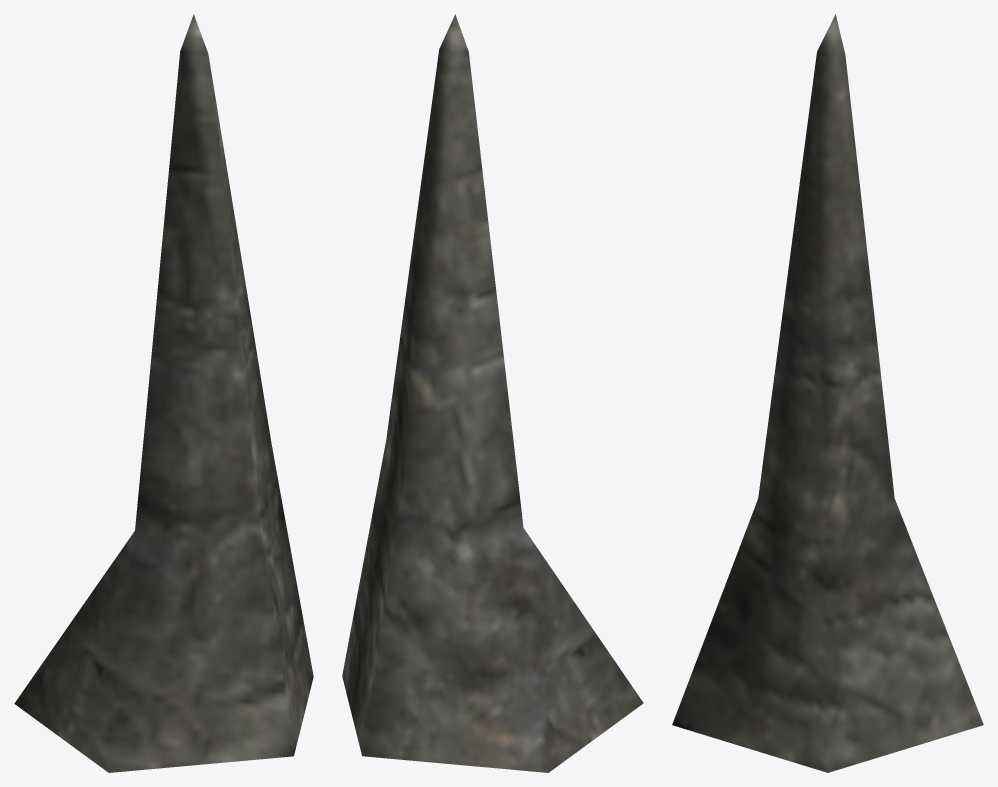
File: Stal6_LOD1.fbx
3 renders of one model, left to right at view 1: azimuth 30°, elevation 25°; view 2: azimuth 150°, elevation 25°; view 3: azimuth 270°, elevation 25°, orthographic.
Parts seen in each view (by area): view 1: pCylinder24; view 2: pCylinder24; view 3: pCylinder24.
Boxes of the visible parts, x1=… form: pCylinder24: x1=14, y1=14, x2=313, y2=772; pCylinder24: x1=342, y1=14, x2=643, y2=772; pCylinder24: x1=672, y1=14, x2=983, y2=772.
Bounding box in the file's own units: 0.8399 × 2.19 × 0.8832.
